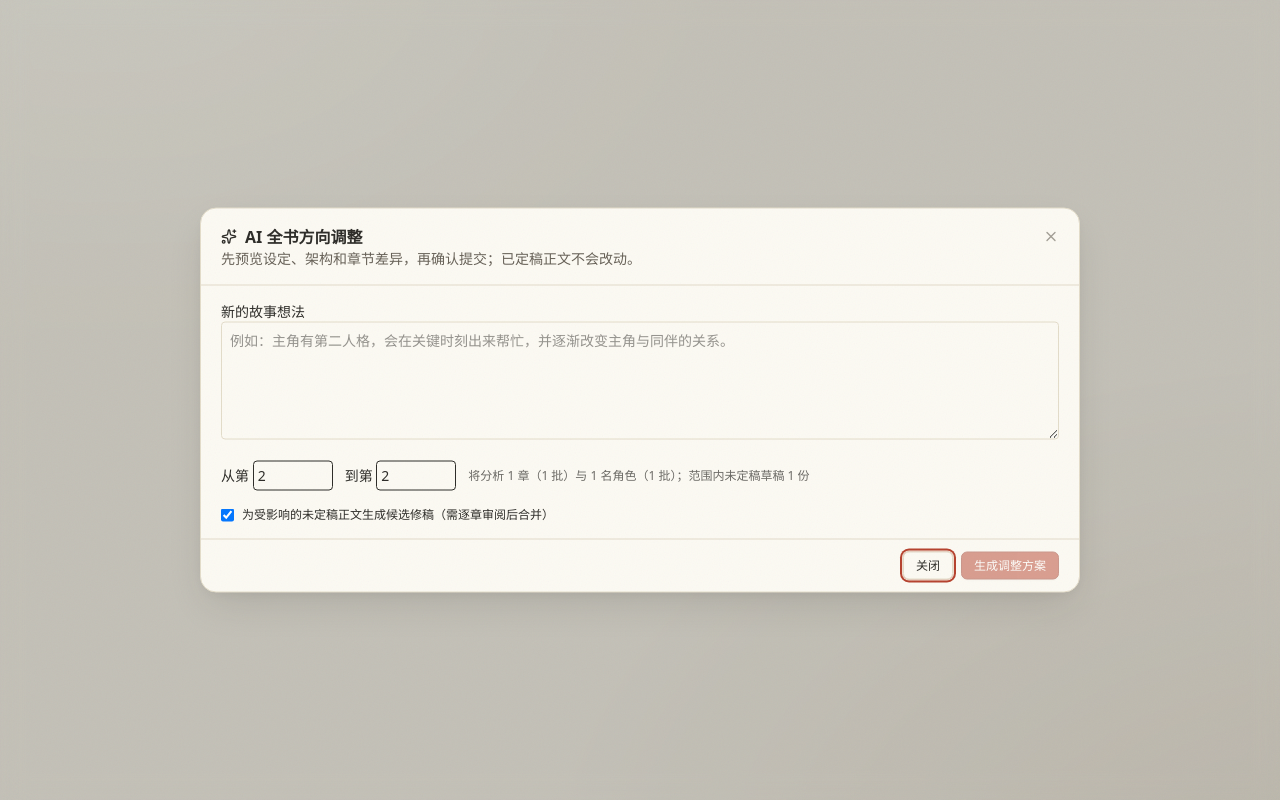
Test case: previews a direction plan and applies only the unfinished chapter after confirmation
The image size is (1280, 800).
Check: the text "将分析 1 章（1 批）与 1 名角色（1 批）；范围内未定稿草稿 1 份" is shown, box [468,468,810,484]
Step 1. Type "主角有第二人格，关键时刻帮忙" into the text box with placeholder "例如：主角有第二人格，会在关键时刻出来帮忙，并逐渐改变主角与同伴的关系。" → (640, 380), box [221,322,1059,440]
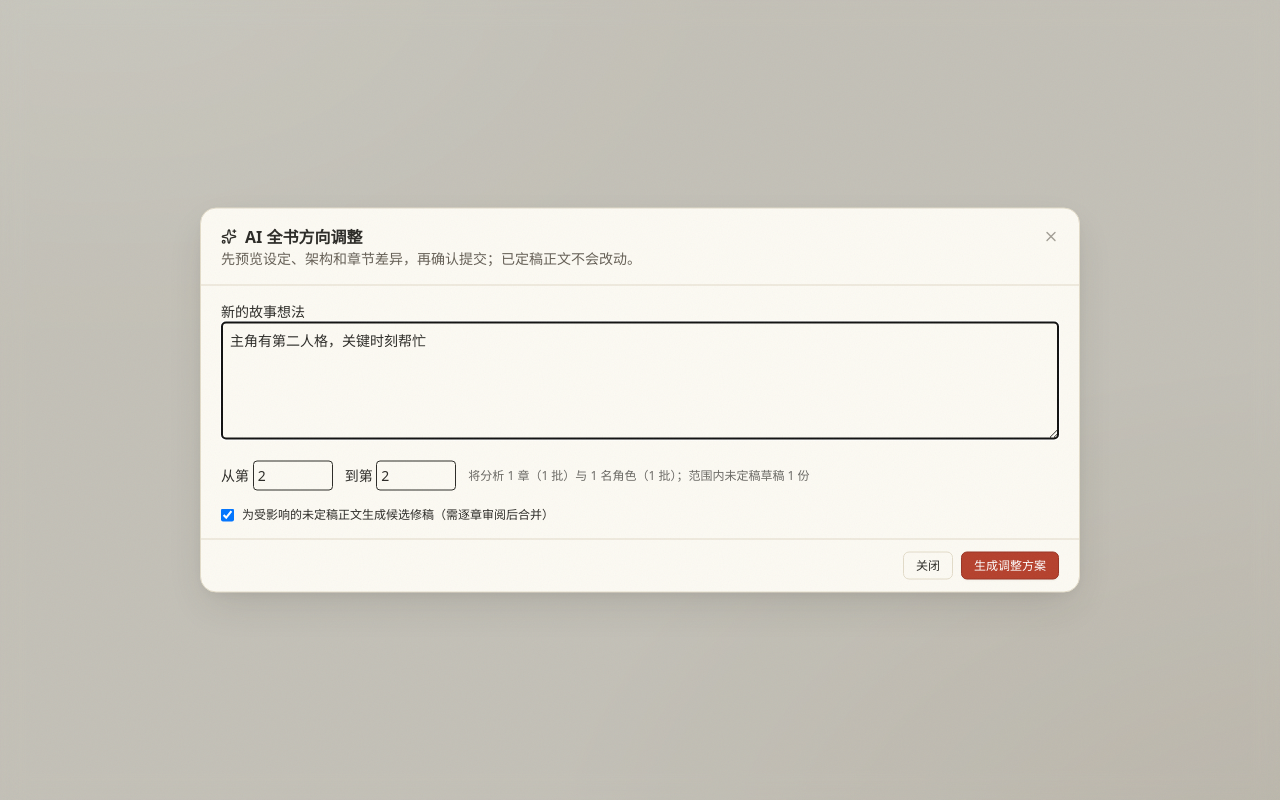
Step 2. Click the checkbox labelled "为受影响的未定稿正文生成候选修稿（需逐章审阅后合并）" → (228, 514), box [221,508,234,521]
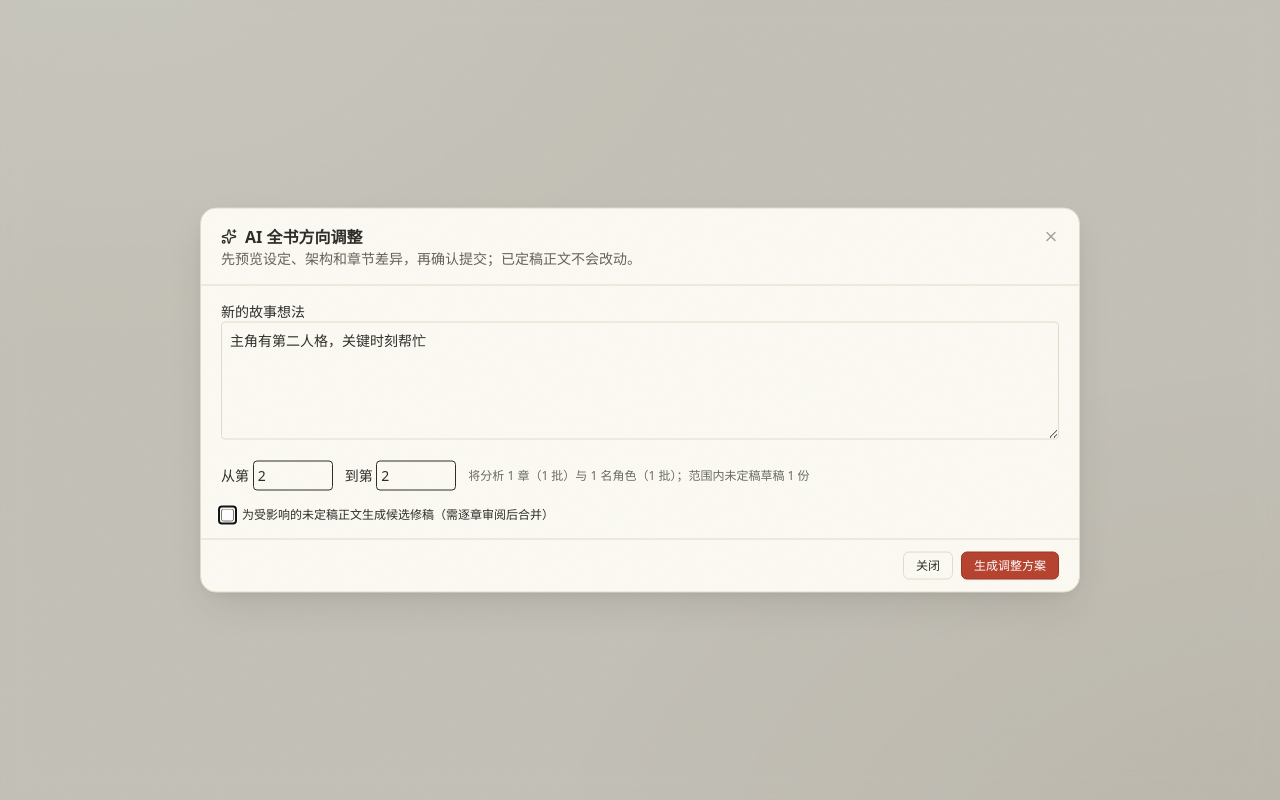
Step 3. Click the button "生成调整方案" → (1010, 566), box [961,552,1059,580]
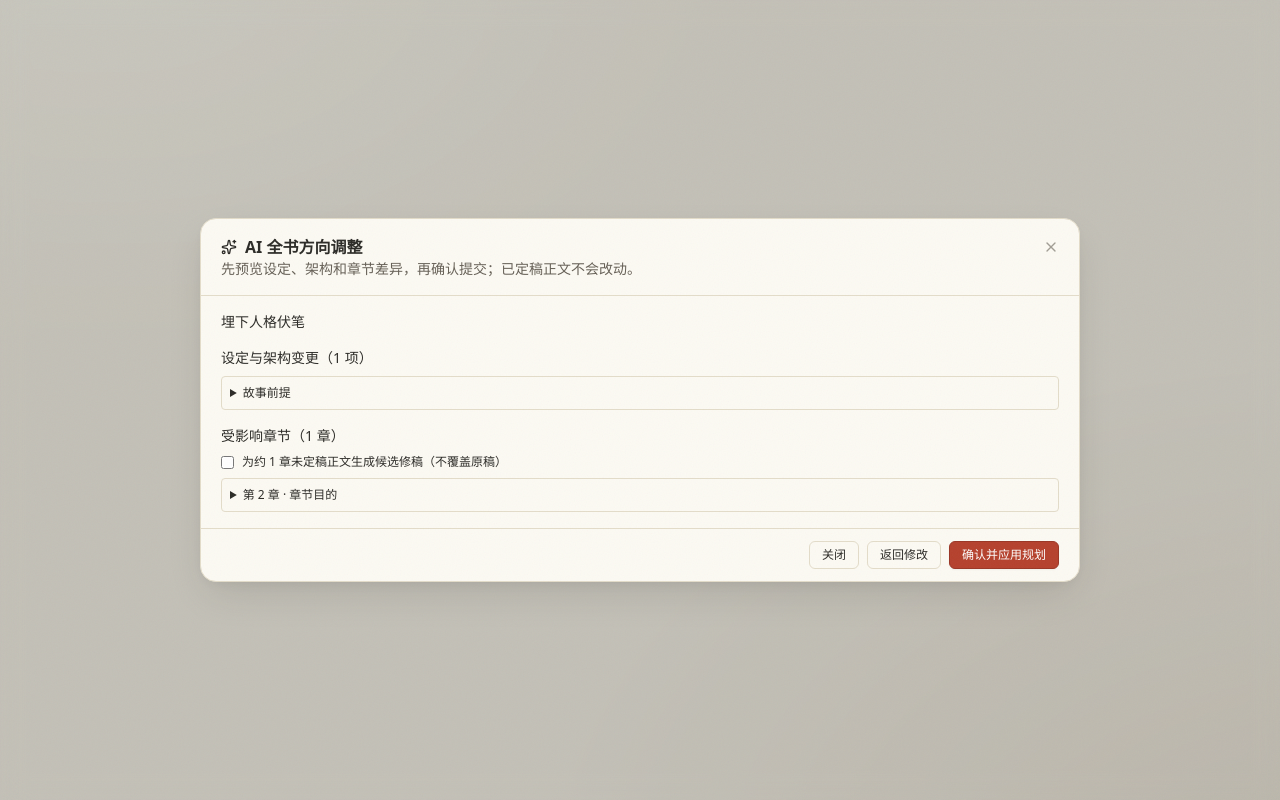
Check: the text "埋下人格伏笔" is shown, box [221,312,305,331]
Step 4. Click the button "确认并应用规划" → (1004, 555), box [949,541,1059,569]
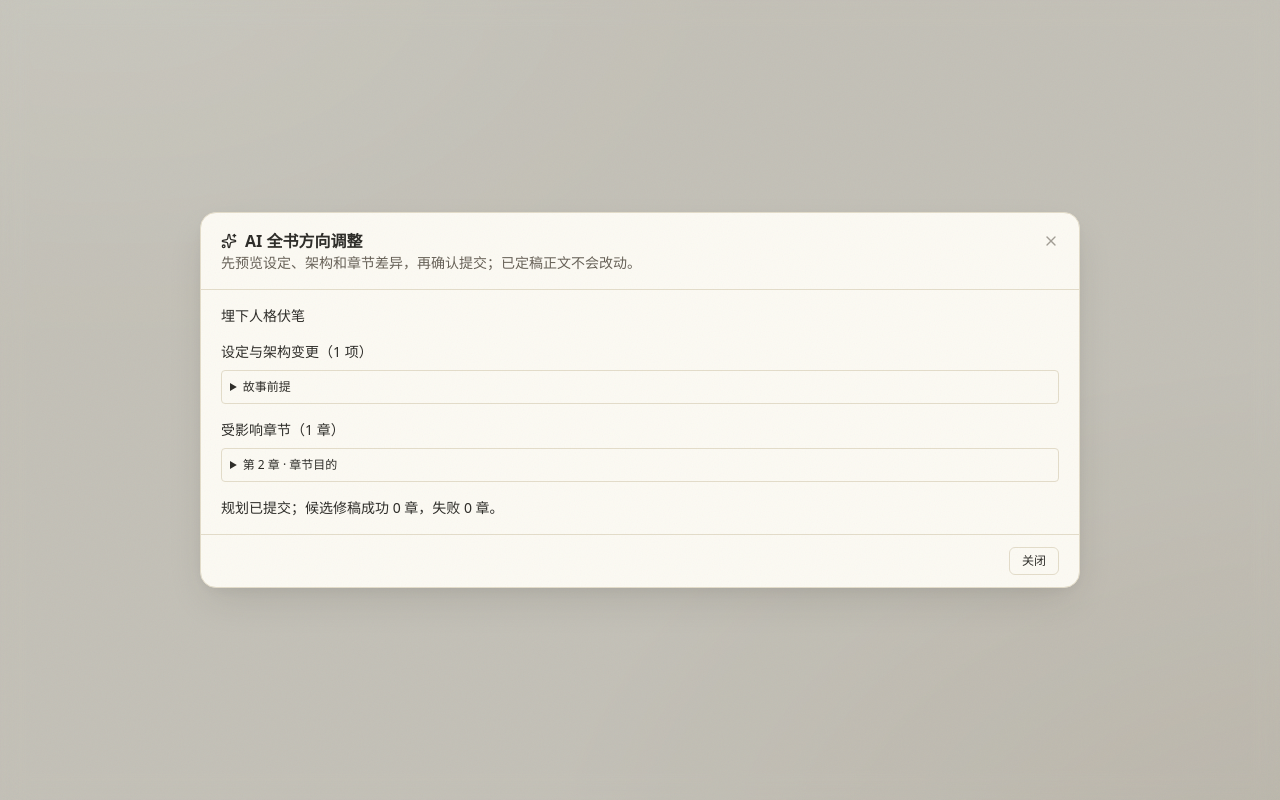
Check: the text "规划已提交；候选修稿成功 0 章，失败 0 章。" is shown, box [221,498,504,517]
